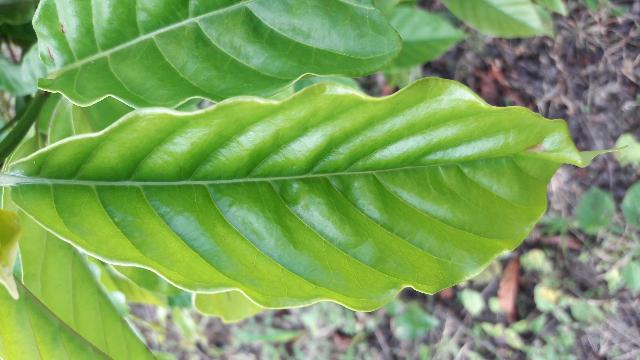healthy: (10, 78, 593, 316)
